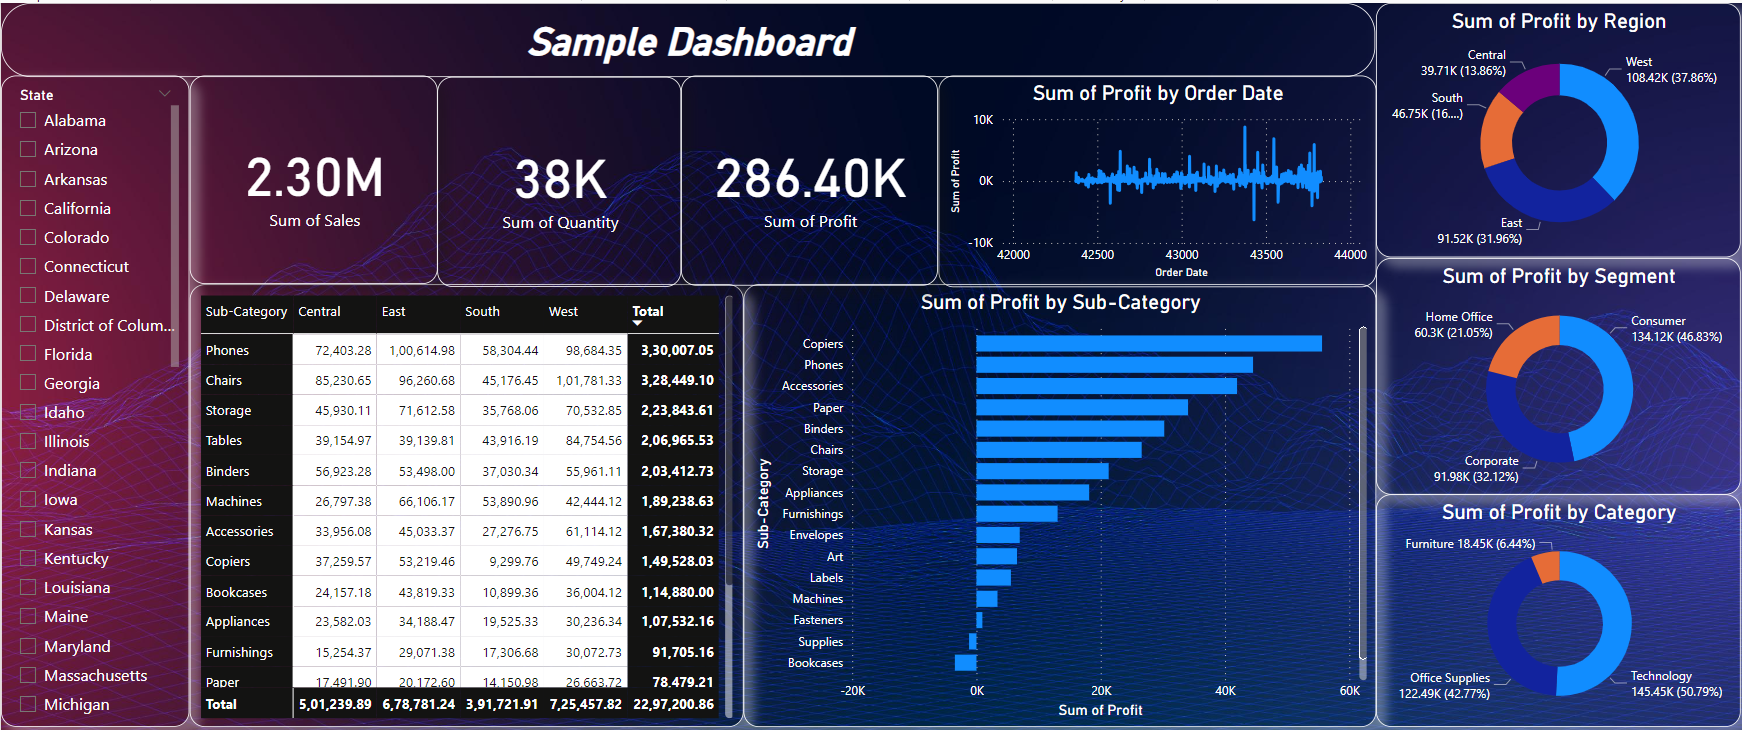

The dashboard page shown, as its layout file describes it:
{"tool":"powerbi","page":{"name":"Page 1","canvas":[1730,723],"ordinal":0},"visuals":[{"type":"textbox","box":[0,0,1365.8,73.7],"z":0},{"type":"donutChart","fields":{"Category":["Orders.Category"],"Y":["Sum(Orders.Profit)"]},"box":[1366.2,488.8,362.5,231.2],"z":1000},{"type":"donutChart","fields":{"Y":["Sum(Orders.Profit)"],"Category":["Orders.Segment"]},"box":[1366.2,253.8,362.5,235],"z":2000},{"type":"donutChart","fields":{"Category":["Orders.Region"],"Y":["Sum(Orders.Profit)"]},"box":[1366.2,0,362.5,252.5],"z":3000},{"type":"barChart","fields":{"Y":["Sum(Orders.Profit)"],"Category":["Orders.Sub-Category"]},"box":[737.5,280,628.8,440],"z":4000},{"type":"lineChart","fields":{"Y":["Sum(Orders.Profit)"],"Category":["Orders.Order Date"]},"box":[931.2,72.5,435,210],"z":5000},{"type":"slicer","fields":{"Values":["Orders.State"]},"box":[0,72.5,187.5,647.5],"z":6000},{"type":"pivotTable","fields":{"Rows":["Orders.Sub-Category"],"Values":["Sum(Orders.Sales)"],"Columns":["Orders.Region"]},"box":[187.5,280,550,440],"z":7000},{"type":"card","fields":{"Values":["Sum(Orders.Sales)"]},"box":[187.5,72.5,246.2,207.5],"z":8000},{"type":"card","fields":{"Values":["Sum(Orders.Quantity)"]},"box":[433.8,73.8,242.5,208.8],"z":9000},{"type":"card","fields":{"Values":["Sum(Orders.Profit)"]},"box":[676.2,72.5,255,208.8],"z":10000}]}

Visuals, with their boxes in screenshot pixels (x1, y1, x2, y2), scaled from the page's 1730x723 canvas onto the 1742x730 screenshot:
textbox: detection(0, 0, 1375, 74)
donutChart - Orders.Category x Sum(Orders.Profit): detection(1376, 494, 1741, 727)
donutChart - Sum(Orders.Profit) x Orders.Segment: detection(1376, 256, 1741, 494)
donutChart - Orders.Region x Sum(Orders.Profit): detection(1376, 0, 1741, 255)
barChart - Sum(Orders.Profit) x Orders.Sub-Category: detection(743, 283, 1376, 727)
lineChart - Sum(Orders.Profit) x Orders.Order Date: detection(938, 73, 1376, 285)
slicer - Orders.State: detection(0, 73, 189, 727)
pivotTable - Orders.Sub-Category x Sum(Orders.Sales): detection(189, 283, 743, 727)
card - Sum(Orders.Sales): detection(189, 73, 437, 283)
card - Sum(Orders.Quantity): detection(437, 75, 681, 285)
card - Sum(Orders.Profit): detection(681, 73, 938, 284)
